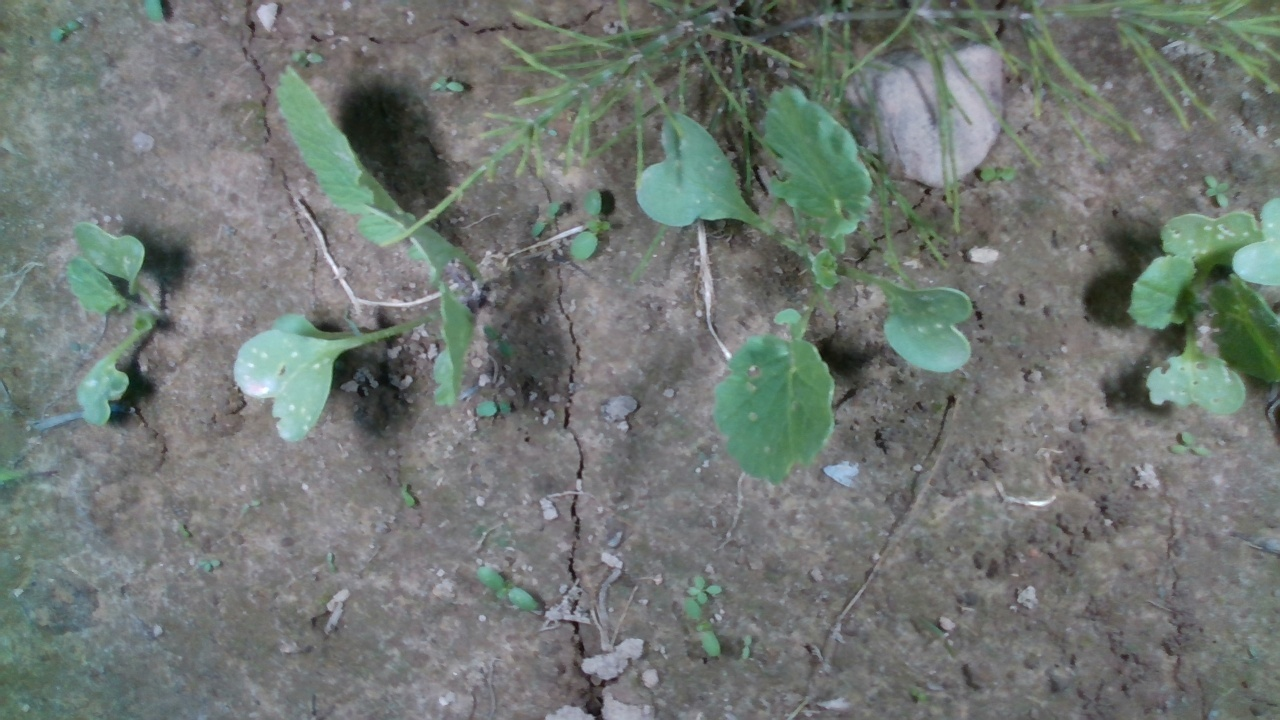weed: (567, 187, 612, 262), (473, 563, 538, 611), (1164, 429, 1210, 458), (529, 200, 561, 238), (1201, 170, 1232, 209), (427, 72, 465, 94), (979, 162, 1017, 184), (48, 18, 81, 41), (474, 399, 515, 417), (398, 480, 415, 510), (197, 556, 223, 574), (739, 630, 754, 661)
